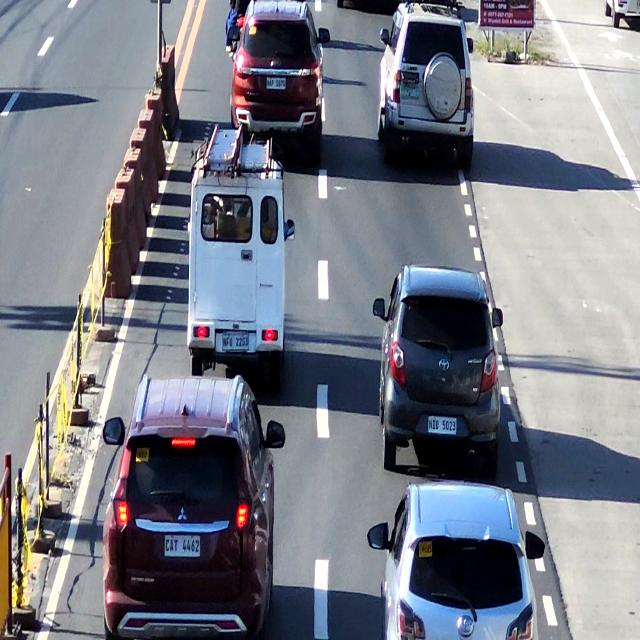Car: (109, 374, 275, 640), (375, 260, 506, 468), (190, 134, 287, 385), (375, 489, 531, 640), (375, 0, 478, 174), (232, 0, 327, 147)
License-Plate: (159, 530, 204, 569), (427, 413, 459, 442), (214, 330, 252, 351), (398, 79, 422, 102), (262, 76, 288, 92)
